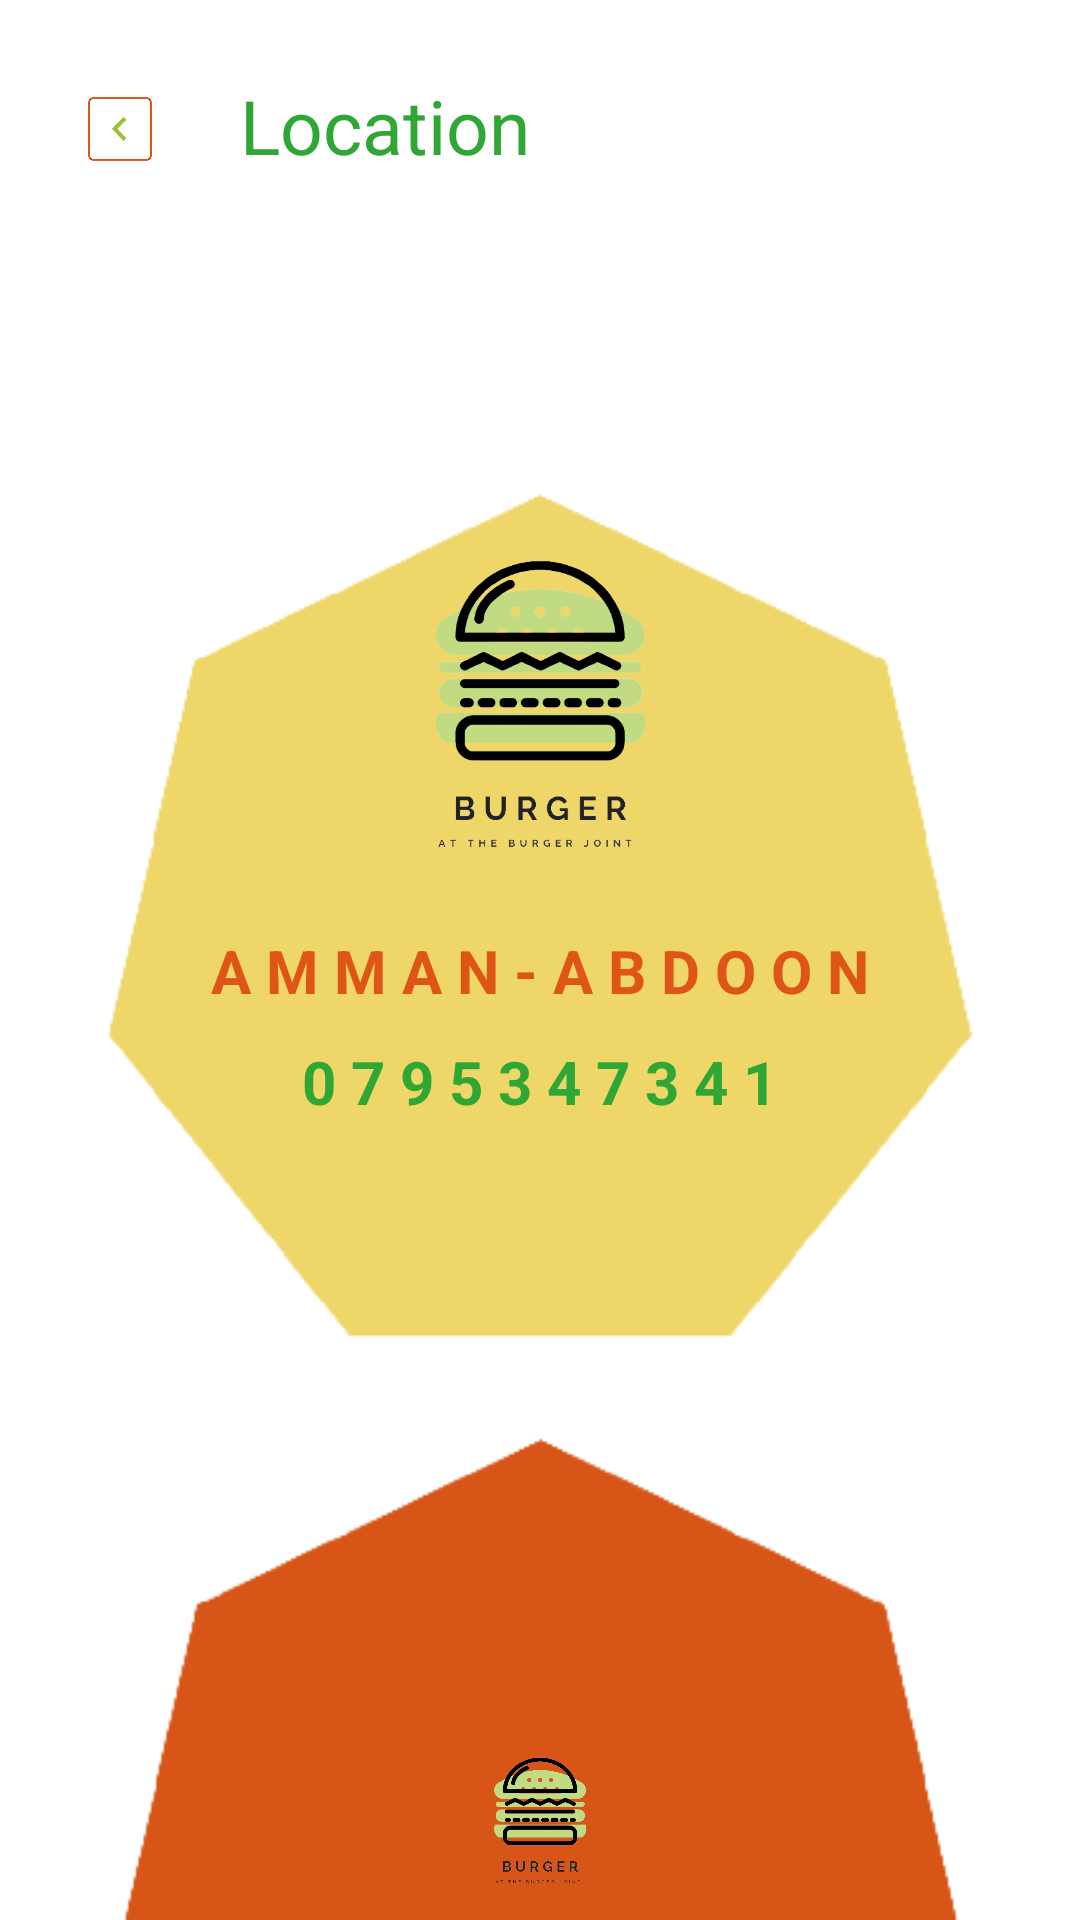

Locate icon controls on the screen. Image size 1080x1920, boxes as box(x1, y1, x2, y2).
back: box(88, 97, 152, 161)
